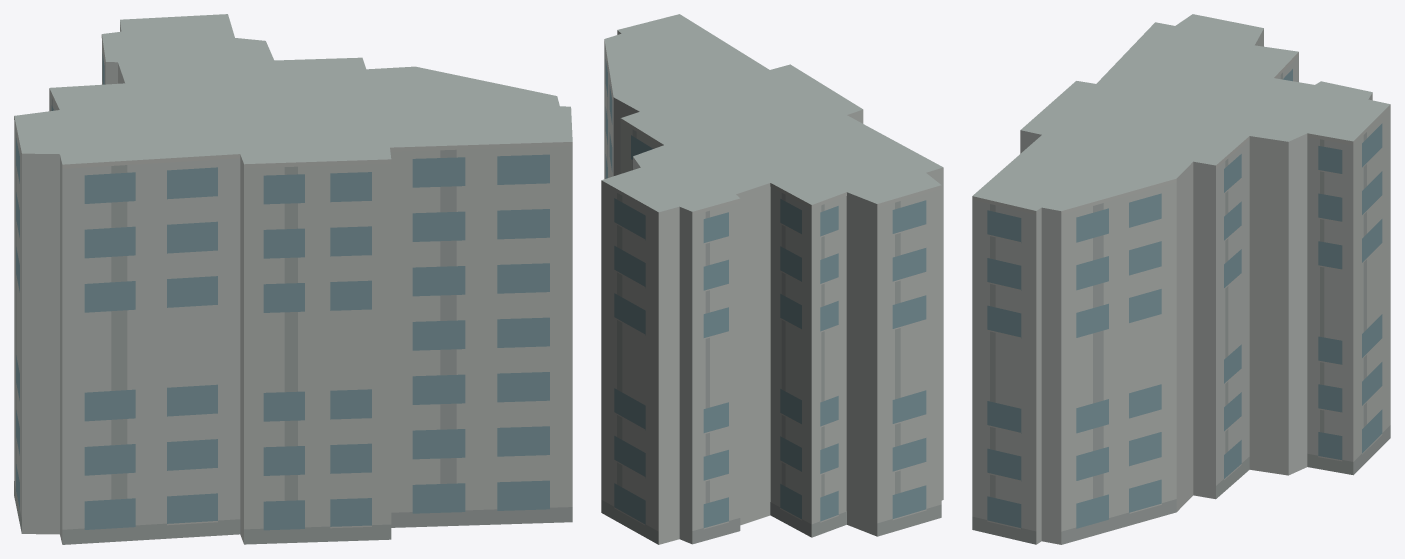
File: survey-upis-32888460.glb
The picture shows the model from 3 angles, left to right: view 1: azimuth 30°, elevation 25°; view 2: azimuth 150°, elevation 25°; view 3: azimuth 270°, elevation 25°; orthographic projection. The views are drawn at different scales.
Visible parts, largest first — view 1: survey-upis-32888460.tmp; view 2: survey-upis-32888460.tmp; view 3: survey-upis-32888460.tmp.
Boxes of the visible parts, <box> form: survey-upis-32888460.tmp: <box>14,14,572,544</box>; survey-upis-32888460.tmp: <box>601,14,943,544</box>; survey-upis-32888460.tmp: <box>972,14,1390,544</box>.
Bounding box in the file's own units: 27.44 × 21.65 × 24.61.
